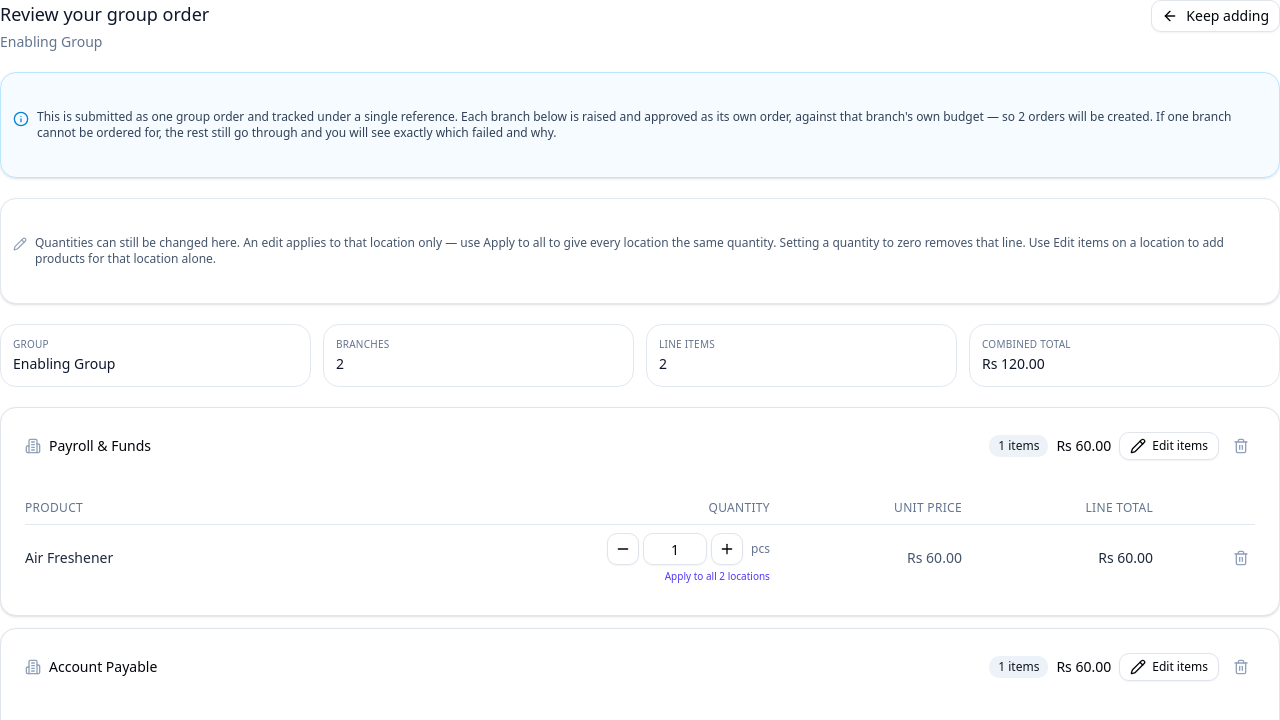
Test: ReviewStep — editing one location › opens the editor on the location that was chosen, reading that location's catalogue
What coordinates should you click on to do the following:
click the button with aria-label "Edit items for Account Payable"
I would click on:
 (1169, 667)
Its box is [1119,653,1219,681].
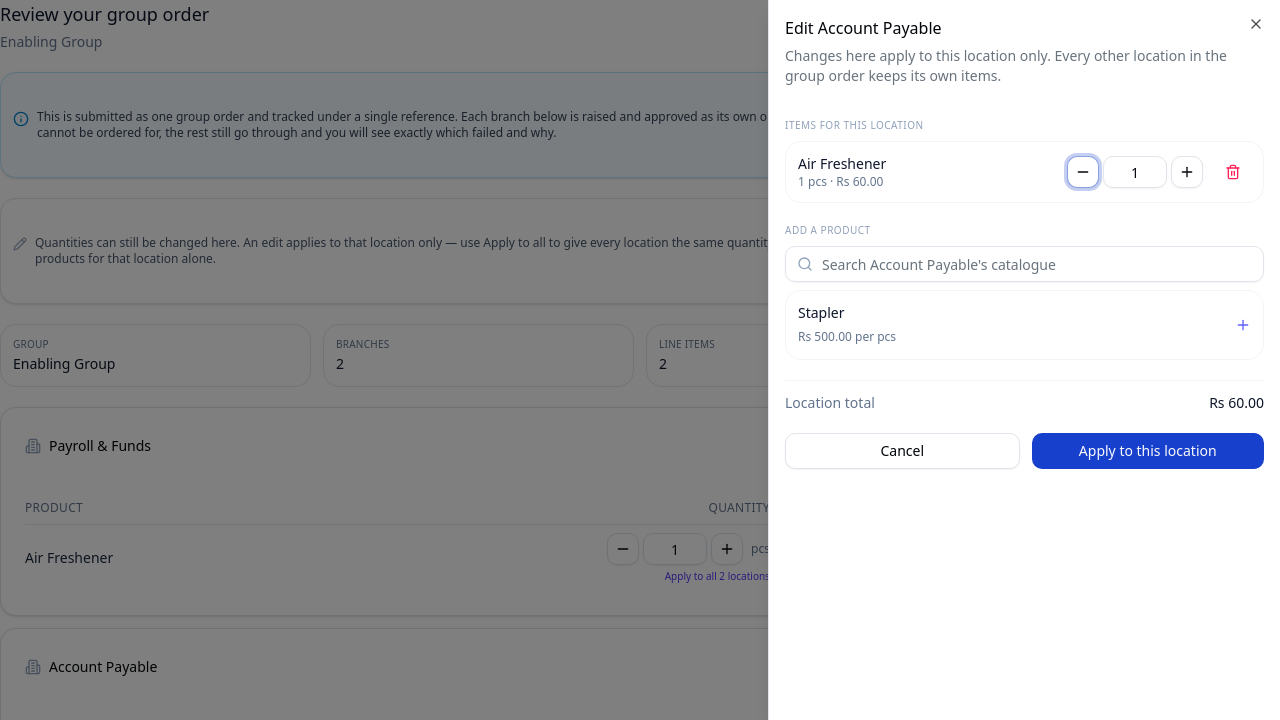
Now the heading "Edit Account Payable" is shown, box [785,17,942,39]
